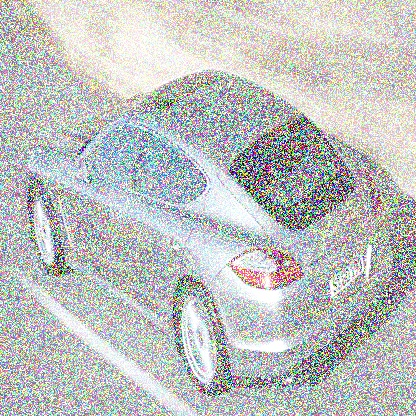Vehicle: (21, 69, 396, 393)
